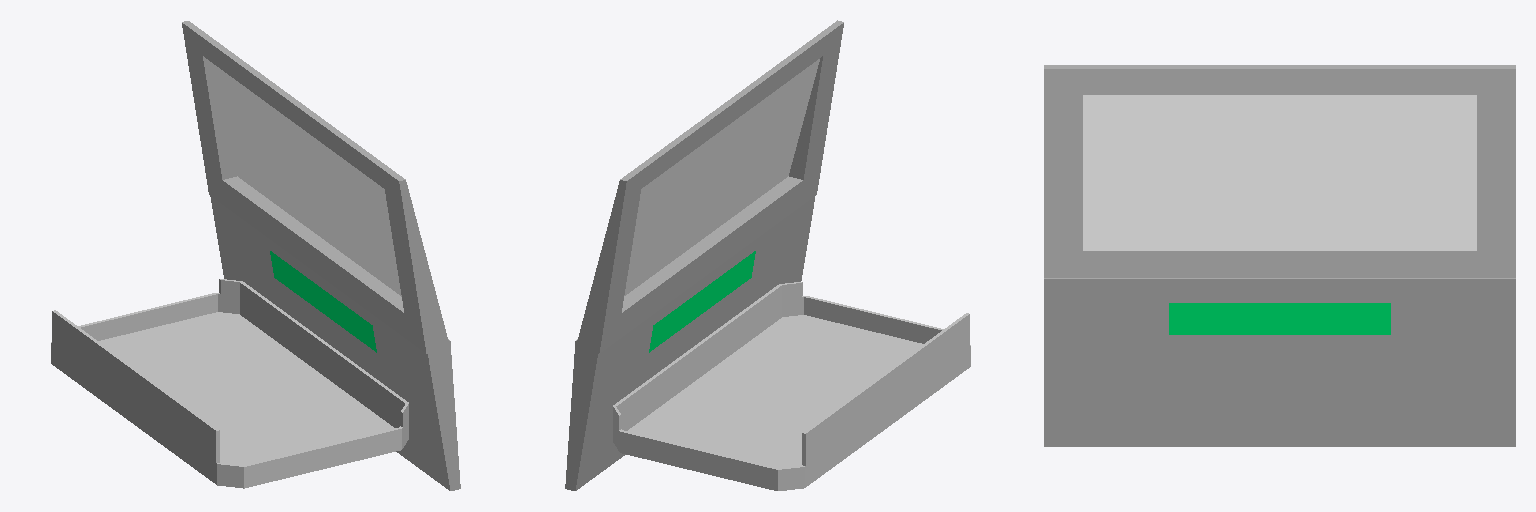
robot.urdf — washing-machine_fixed:
<?xml version="1.0"?>
<robot name="washing-machine_fixed"
       xmlns:xi="http://www.w3.org/2001/XInclude"
       >
  <gazebo>
    <static>false</static>
  </gazebo>
  <link name="ROOT_link">
    <visual>
      <origin xyz="0 0 0" rpy="0 -0 0"/>
      <geometry>
        <mesh filename="model://washing-machine/meshes/ROOT_link_mesh.dae" scale="1 1 1" />
      </geometry>
    </visual>
    <collision>
      <origin xyz="0 0 0" rpy="0 -0 0"/>
      <geometry>
        <mesh filename="model://washing-machine/meshes/ROOT_link_mesh.dae" scale="1 1 1" />
      </geometry>
    </collision>
    <inertial>
      <mass value="0.001" />
      <origin xyz="0 0 0" rpy="0 -0 0"/>
      <inertia ixx="1e-03" ixy="0" ixz="0" iyy="1e-03" iyz="0" izz="1e-03"/>
    </inertial>
  </link>
  <gazebo reference="ROOT_link">
    <mu1>0.9</mu1>
    <mu2>0.9</mu2>
  </gazebo>
  <link name="WASHING-MACHINE-BODYSET3_link">
    <visual>
      <origin xyz="0.15 -0.275 0.09" rpy="0 -0 0"/>
      <geometry>
        <mesh filename="model://washing-machine/meshes/WASHING-MACHINE-BODYSET3_link_mesh.dae" scale="1 1 1" />
      </geometry>
    </visual>
    <collision>
      <origin xyz="0.15 -0.275 0.09" rpy="0 -0 0"/>
      <geometry>
        <mesh filename="model://washing-machine/meshes/WASHING-MACHINE-BODYSET3_link_mesh.dae" scale="1 1 1" />
      </geometry>
    </collision>
    <inertial>
      <mass value="0.001" />
      <origin xyz="0 0 0" rpy="0 -0 0"/>
      <inertia ixx="1e-03" ixy="0" ixz="0" iyy="1e-03" iyz="0" izz="1e-03"/>
    </inertial>
  </link>
  <gazebo reference="WASHING-MACHINE-BODYSET3_link">
    <mu1>0.9</mu1>
    <mu2>0.9</mu2>
  </gazebo>
  <link name="WASHING-MACHINE-BODYSET2_link">
    <visual>
      <origin xyz="-0.08 0.005 0.115" rpy="0 -0 0"/>
      <geometry>
        <mesh filename="model://washing-machine/meshes/WASHING-MACHINE-BODYSET2_link_mesh.dae" scale="1 1 1" />
      </geometry>
    </visual>
    <collision>
      <origin xyz="-0.08 0.005 0.115" rpy="0 -0 0"/>
      <geometry>
        <mesh filename="model://washing-machine/meshes/WASHING-MACHINE-BODYSET2_link_mesh.dae" scale="1 1 1" />
      </geometry>
    </collision>
    <inertial>
      <mass value="0.001" />
      <origin xyz="0 0 0" rpy="0 -0 0"/>
      <inertia ixx="1e-03" ixy="0" ixz="0" iyy="1e-03" iyz="0" izz="1e-03"/>
    </inertial>
  </link>
  <gazebo reference="WASHING-MACHINE-BODYSET2_link">
    <mu1>0.9</mu1>
    <mu2>0.9</mu2>
  </gazebo>
  <link name="WASHING-MACHINE-BODYSET5_link">
    <visual>
      <origin xyz="-0.05 -0.275 0.415" rpy="0 -0 0"/>
      <geometry>
        <mesh filename="model://washing-machine/meshes/WASHING-MACHINE-BODYSET5_link_mesh.dae" scale="1 1 1" />
      </geometry>
    </visual>
    <collision>
      <origin xyz="-0.05 -0.275 0.415" rpy="0 -0 0"/>
      <geometry>
        <mesh filename="model://washing-machine/meshes/WASHING-MACHINE-BODYSET5_link_mesh.dae" scale="1 1 1" />
      </geometry>
    </collision>
    <inertial>
      <mass value="0.001" />
      <origin xyz="0 0 0" rpy="0 -0 0"/>
      <inertia ixx="1e-03" ixy="0" ixz="0" iyy="1e-03" iyz="0" izz="1e-03"/>
    </inertial>
  </link>
  <gazebo reference="WASHING-MACHINE-BODYSET5_link">
    <mu1>0.9</mu1>
    <mu2>0.9</mu2>
  </gazebo>
  <link name="WASHING-MACHINE-BODYSET4_link">
    <visual>
      <origin xyz="-0.08 0.005 0.285" rpy="0 -0 0"/>
      <geometry>
        <mesh filename="model://washing-machine/meshes/WASHING-MACHINE-BODYSET4_link_mesh.dae" scale="1 1 1" />
      </geometry>
    </visual>
    <collision>
      <origin xyz="-0.08 0.005 0.285" rpy="0 -0 0"/>
      <geometry>
        <mesh filename="model://washing-machine/meshes/WASHING-MACHINE-BODYSET4_link_mesh.dae" scale="1 1 1" />
      </geometry>
    </collision>
    <inertial>
      <mass value="0.001" />
      <origin xyz="0 0 0" rpy="0 -0 0"/>
      <inertia ixx="1e-03" ixy="0" ixz="0" iyy="1e-03" iyz="0" izz="1e-03"/>
    </inertial>
  </link>
  <gazebo reference="WASHING-MACHINE-BODYSET4_link">
    <mu1>0.9</mu1>
    <mu2>0.9</mu2>
  </gazebo>
  <joint name="LOWER-DOOR" type="revolute">
    <parent link="ROOT_link"/>
    <child  link="WASHING-MACHINE-BODYSET3_link"/>
    <origin xyz="0.15 -0.275 0.09" rpy="0 -0 0 "/>
    <axis   xyz="0 1 0"/>
    <limit lower="0" upper="1.5708" effort="100" velocity="0.5" />
    <dynamics damping="0.2" friction="0" />
  </joint>
  <transmission type="pr2_mechanism_model/SimpleTransmission" name="LOWER-DOOR_trans" >
    <actuator name="LOWER-DOOR_motor" />
    <joint name="LOWER-DOOR" />
    <mechanicalReduction>1</mechanicalReduction>
  </transmission>
  <gazebo reference="LOWER-DOOR">
    <cfmDamping>0.4</cfmDamping>
  </gazebo>
  <joint name="LOWER-SHELF" type="prismatic">
    <parent link="ROOT_link"/>
    <child  link="WASHING-MACHINE-BODYSET2_link"/>
    <origin xyz="-0.08 0.005 0.115" rpy="0 -0 0 "/>
    <axis   xyz="1 0 0"/>
    <limit lower="0" upper="0.19" effort="100" velocity="0.01" />
    <dynamics damping="0.2" friction="0" />
  </joint>
  <transmission type="pr2_mechanism_model/SimpleTransmission" name="LOWER-SHELF_trans" >
    <actuator name="LOWER-SHELF_motor" />
    <joint name="LOWER-SHELF" />
    <mechanicalReduction>1</mechanicalReduction>
  </transmission>
  <gazebo reference="LOWER-SHELF">
    <cfmDamping>0.4</cfmDamping>
  </gazebo>
  <joint name="UPPER-DOOR" type="revolute">
    <parent link="ROOT_link"/>
    <child  link="WASHING-MACHINE-BODYSET5_link"/>
    <origin xyz="-0.05 -0.275 0.415" rpy="0 -0 0 "/>
    <axis   xyz="0 1 0"/>
    <limit lower="-1.39626" upper="0" effort="100" velocity="0.5" />
    <dynamics damping="0.2" friction="0" />
  </joint>
  <transmission type="pr2_mechanism_model/SimpleTransmission" name="UPPER-DOOR_trans" >
    <actuator name="UPPER-DOOR_motor" />
    <joint name="UPPER-DOOR" />
    <mechanicalReduction>1</mechanicalReduction>
  </transmission>
  <gazebo reference="UPPER-DOOR">
    <cfmDamping>0.4</cfmDamping>
  </gazebo>
  <joint name="UPPER-SHELF" type="prismatic">
    <parent link="ROOT_link"/>
    <child  link="WASHING-MACHINE-BODYSET4_link"/>
    <origin xyz="-0.08 0.005 0.285" rpy="0 -0 0 "/>
    <axis   xyz="1 0 0"/>
    <limit lower="0" upper="0.17" effort="100" velocity="0.01" />
    <dynamics damping="0.2" friction="0" />
  </joint>
  <transmission type="pr2_mechanism_model/SimpleTransmission" name="UPPER-SHELF_trans" >
    <actuator name="UPPER-SHELF_motor" />
    <joint name="UPPER-SHELF" />
    <mechanicalReduction>1</mechanicalReduction>
  </transmission>
  <gazebo reference="UPPER-SHELF">
    <cfmDamping>0.4</cfmDamping>
  </gazebo>
  <!-- Used for fixing robot to Gazebo 'base_link' -->
  <link name="world"/>
  <joint name="fixed" type="fixed">
    <parent link="world"/>
    <child link="ROOT_link"/>
  </joint>
</robot>

--- Facts derived from the render (not from the file) ---
The picture shows the robot from 3 angles, left to right: view 1: azimuth 30°, elevation 25°; view 2: azimuth 150°, elevation 25°; view 3: azimuth 270°, elevation 25°; orthographic projection.
Model washing-machine_fixed with 6 links and 5 joints (2 revolute, 2 prismatic, 1 fixed), rooted at world, posed all joints at 0.
Links seen in each view (by area): view 1: WASHING-MACHINE-BODYSET2_link, WASHING-MACHINE-BODYSET5_link, WASHING-MACHINE-BODYSET3_link; view 2: WASHING-MACHINE-BODYSET2_link, WASHING-MACHINE-BODYSET5_link, WASHING-MACHINE-BODYSET3_link; view 3: WASHING-MACHINE-BODYSET5_link, WASHING-MACHINE-BODYSET3_link.
Link boxes in pixels (x1,y1,x2,y2): WASHING-MACHINE-BODYSET2_link: (51,279,408,488); WASHING-MACHINE-BODYSET5_link: (182,21,449,353); WASHING-MACHINE-BODYSET3_link: (210,196,460,490); WASHING-MACHINE-BODYSET2_link: (613,282,970,490); WASHING-MACHINE-BODYSET5_link: (576,20,843,353); WASHING-MACHINE-BODYSET3_link: (565,197,814,490); WASHING-MACHINE-BODYSET5_link: (1044,65,1515,277); WASHING-MACHINE-BODYSET3_link: (1044,278,1515,446).
Bounding box of the posed robot: 0.315 × 0.55 × 0.45 m (x, y, z).
3 mesh visuals loaded from 5 distinct referenced files (3 Collada DAE); not drawn: 1 (reference not matched to a file when rendering), 1 (file found but could not be loaded).